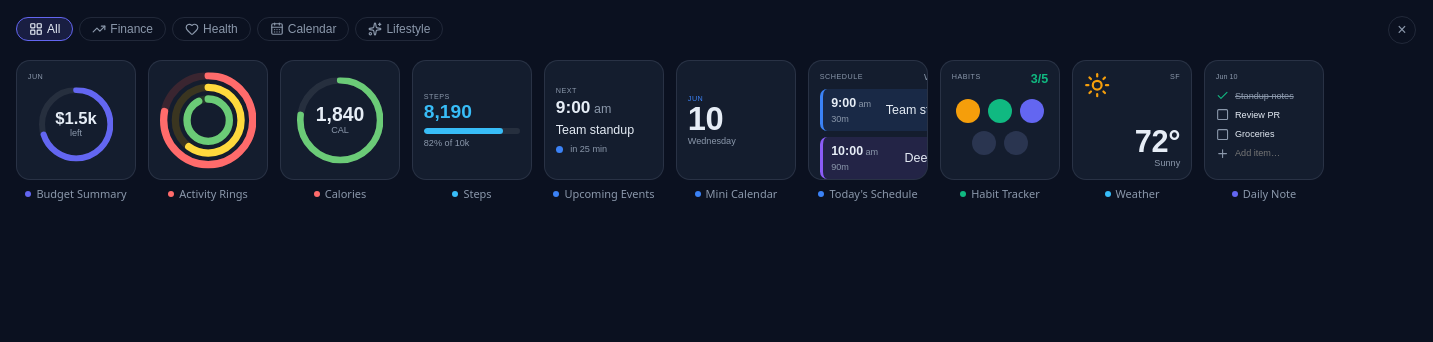
it: WidgetCarousel › back button in size-picker returns to browse state
This screenshot has width=1433, height=342.
Step 1. Click the button with aria-label "Budget Summary" → (76, 120), box [16,60,136,180]
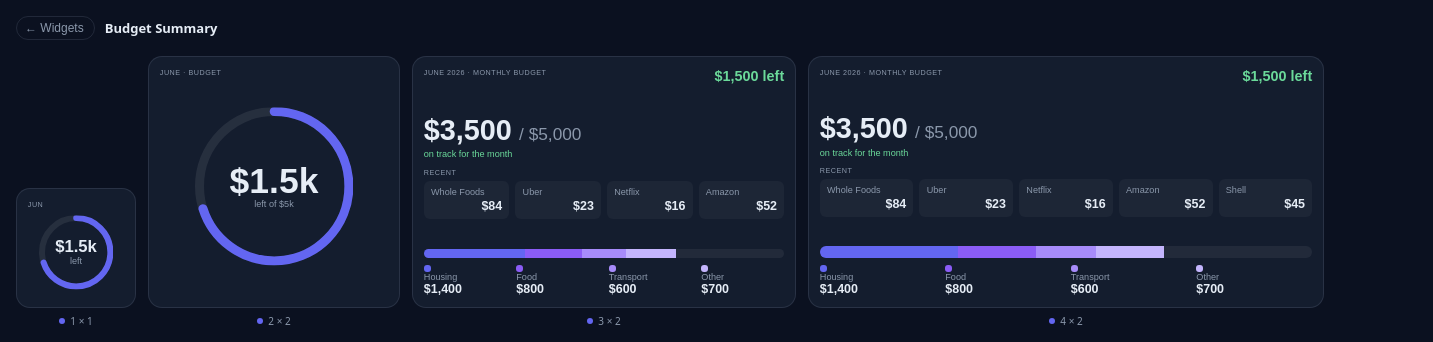
Step 2. Click the button "← Widgets" → (55, 28), box [16,16,95,40]
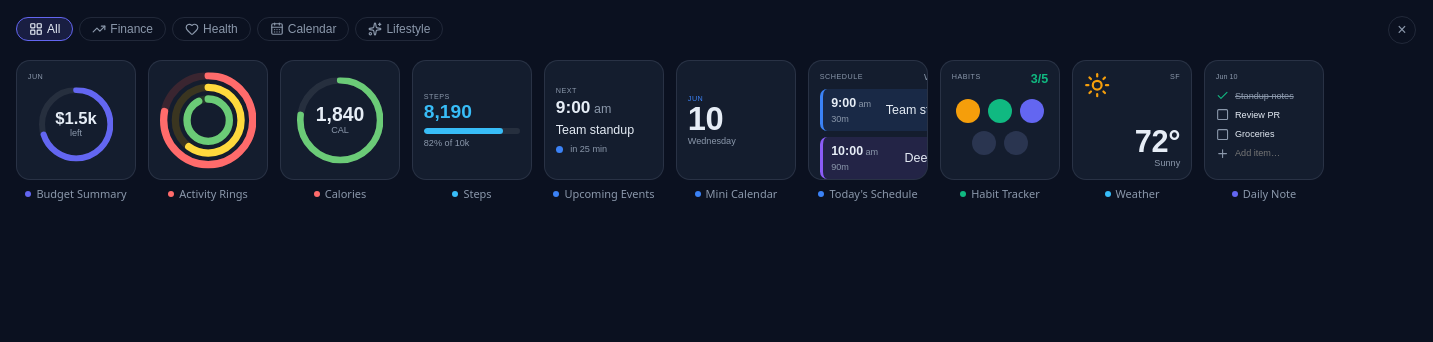
Result: the button named "Activity Rings" is shown at [148,60,268,180]
